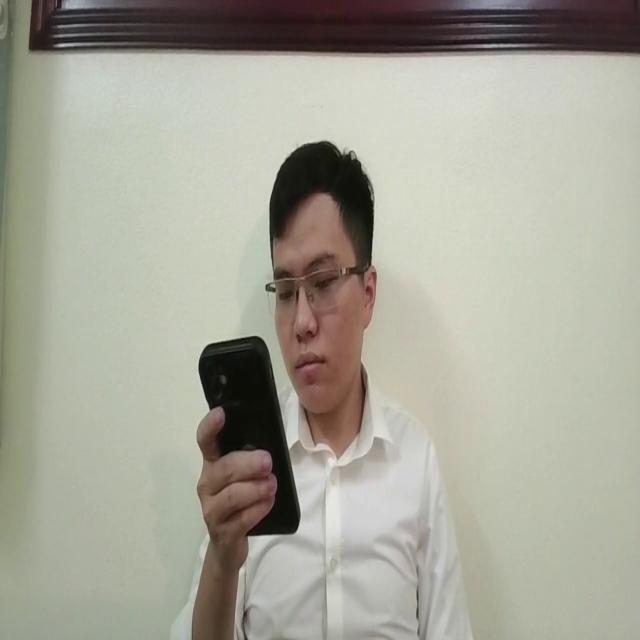phone: (198, 332, 299, 540)
student: (166, 130, 472, 640)
